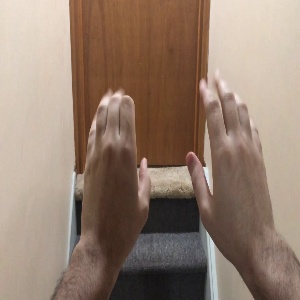hand: (186, 71, 274, 240), (82, 90, 150, 248)
